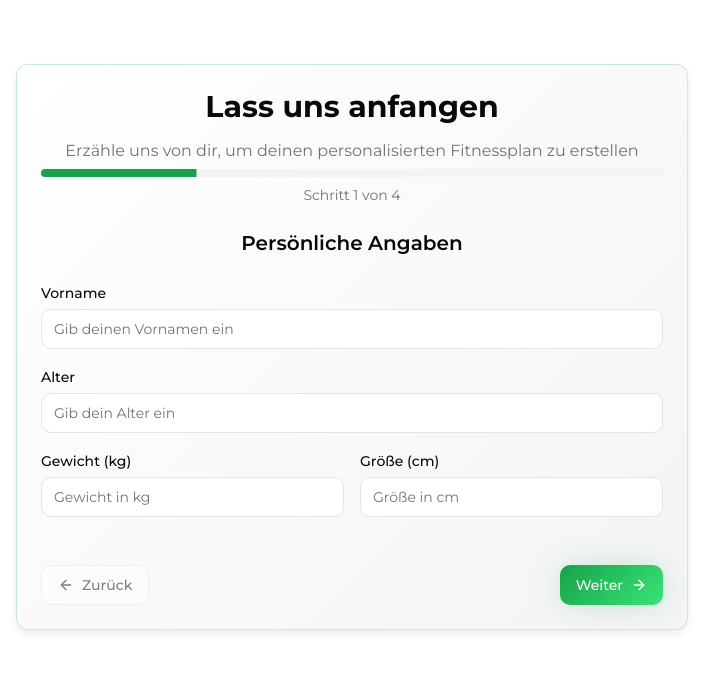
Scenario: German onboarding › associates German required errors with the personal inputs
Click the button "Weiter" at (611, 585), box [560,565,663,605]
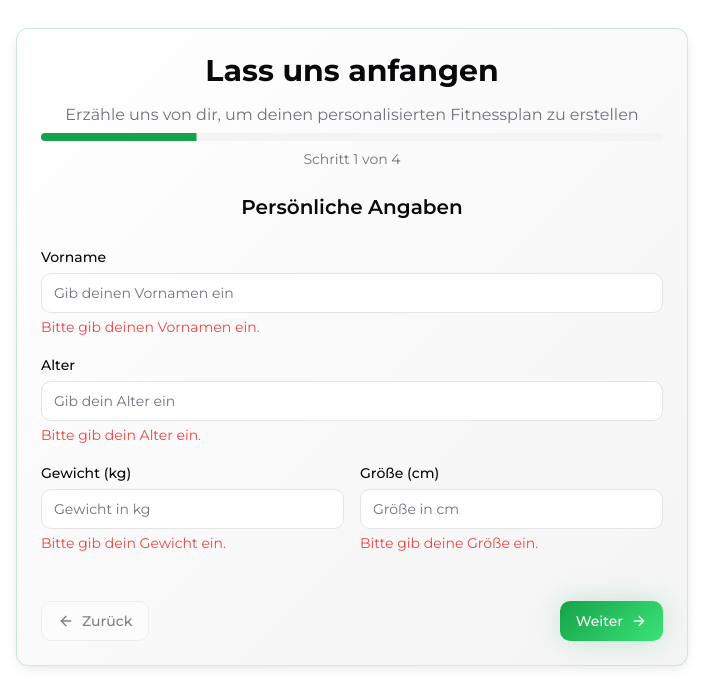
Result: the text "Bitte gib deinen Vornamen ein." is shown at [41,318,260,336]
Result: the text "Bitte gib dein Alter ein." is shown at [41,426,201,444]
Result: the text "Bitte gib dein Gewicht ein." is shown at [41,534,226,552]
Type "Mia" into the field labelled "Vorname" at (352, 293), box [41,273,663,313]
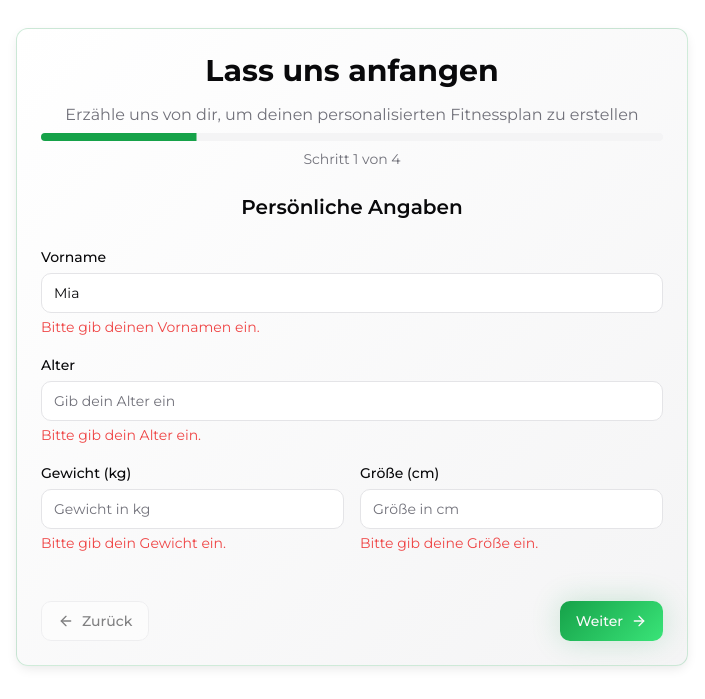
Type "31" into the number field labelled "Alter" at (352, 401), box [41,381,663,421]
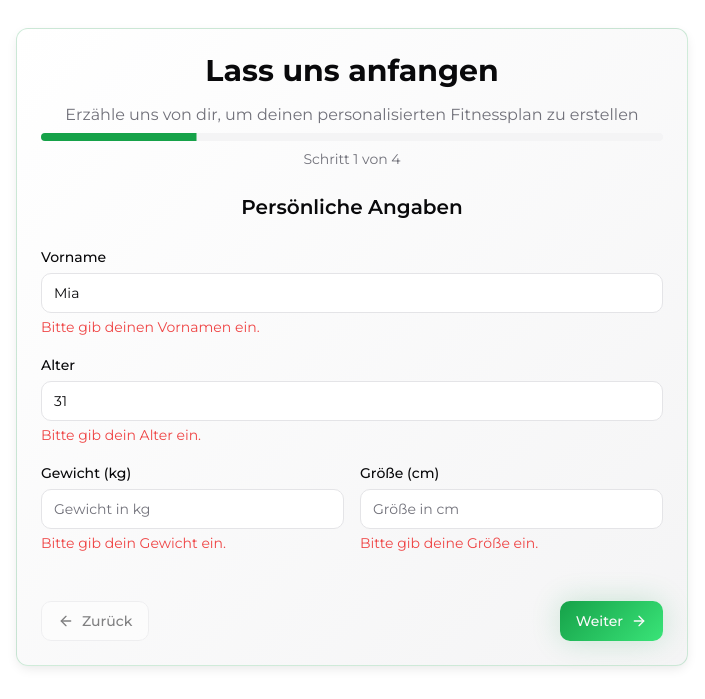
Type "72" into the number field labelled "Gewicht (kg)" at (192, 509), box [41,489,344,529]
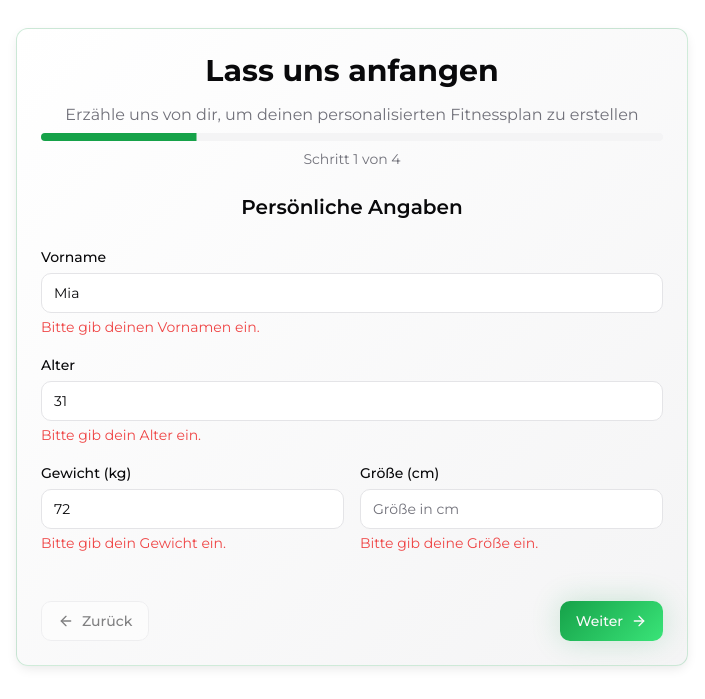
Type "168" into the number field labelled "Größe (cm)" at (512, 509), box [360,489,663,529]
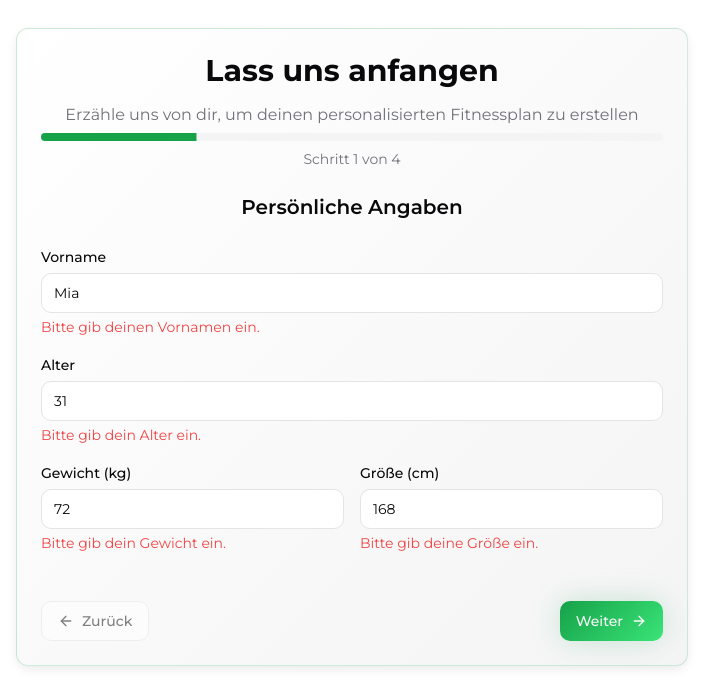
Click the button "Weiter" at (611, 621), box [560,601,663,641]
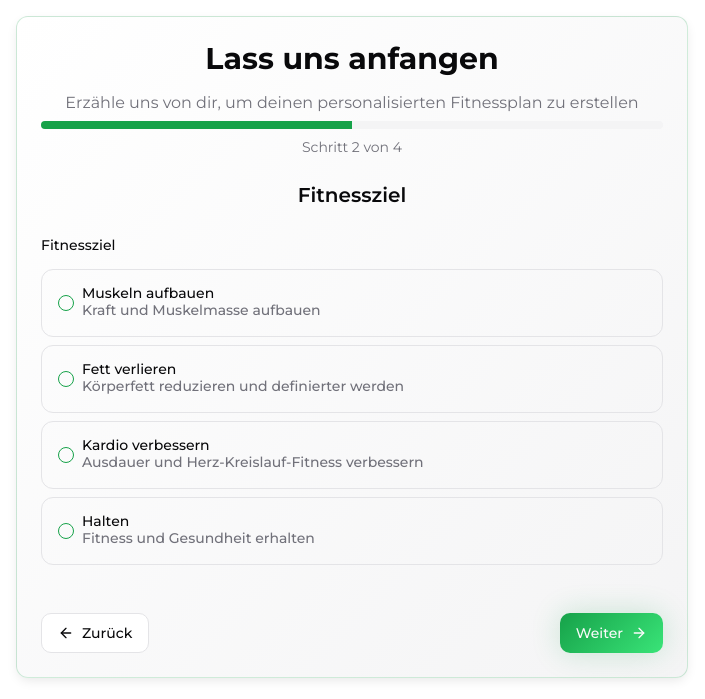
Result: the heading "Fitnessziel" is shown at [298,183,406,207]
